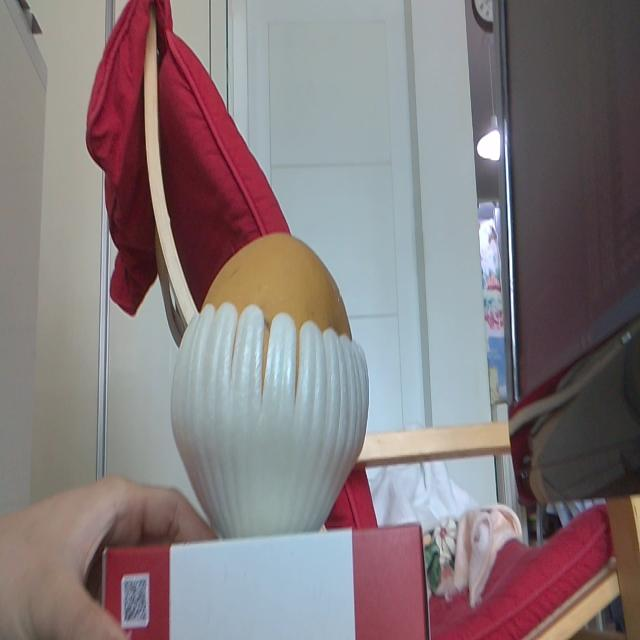pear: (172, 230, 371, 540)
